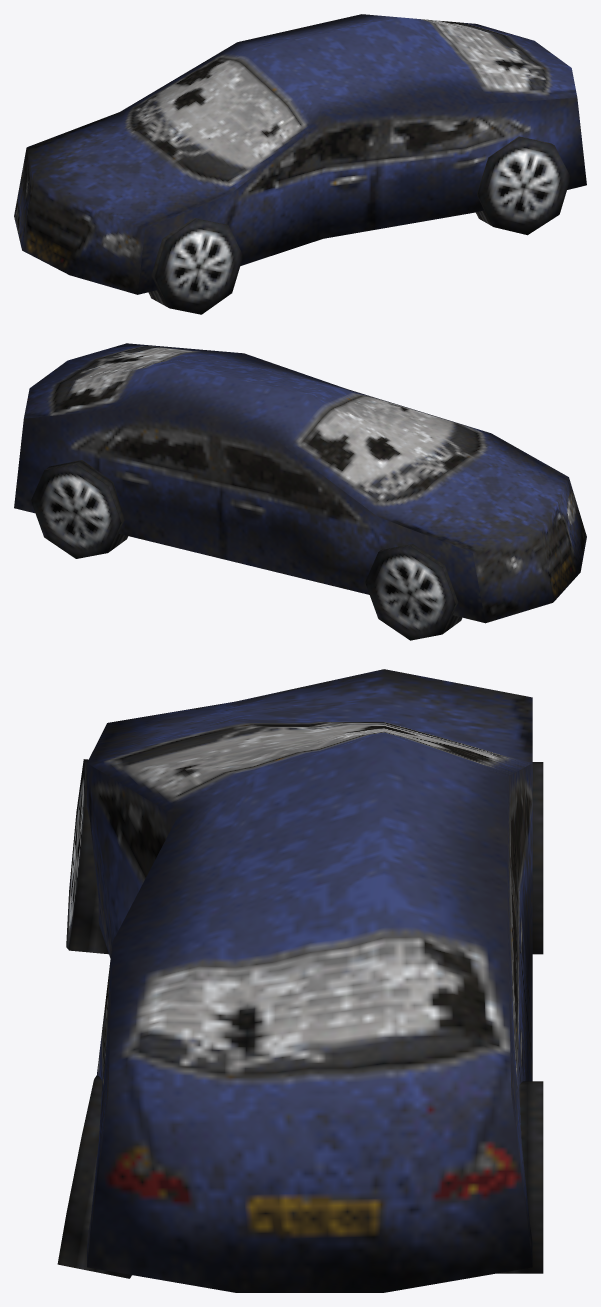
The model's file is car7.fbx.
3 views of the same model, one above another, from view 1: azimuth 30°, elevation 25°; view 2: azimuth 150°, elevation 25°; view 3: azimuth 270°, elevation 25° (orthographic). The views are drawn at different scales.
Parts seen in each view (by area): view 1: car7; view 2: car7; view 3: car7.
Part boxes in pixels (x1,y1,x2,y2): car7: (14, 14, 586, 314); car7: (14, 343, 586, 640); car7: (57, 669, 543, 1292).
Size of the model in its own units: 467 by 190 by 154.
1 material, 1 textured.
